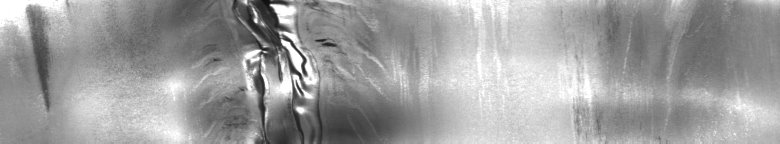ke: (214, 4, 337, 136)
